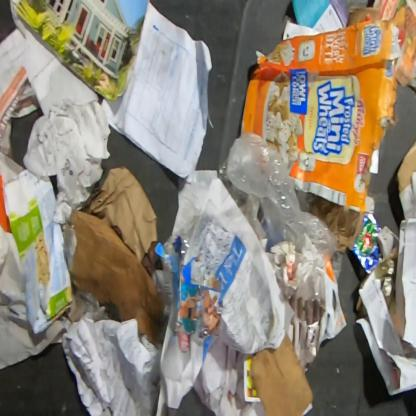cardboard: (240, 14, 404, 212), (70, 209, 165, 344), (153, 234, 223, 339), (249, 330, 313, 415), (395, 138, 415, 196)
metal: (352, 213, 382, 275)
rigid_plastic: (219, 159, 261, 230), (163, 216, 199, 263)
soft_plastic: (225, 132, 343, 284)
